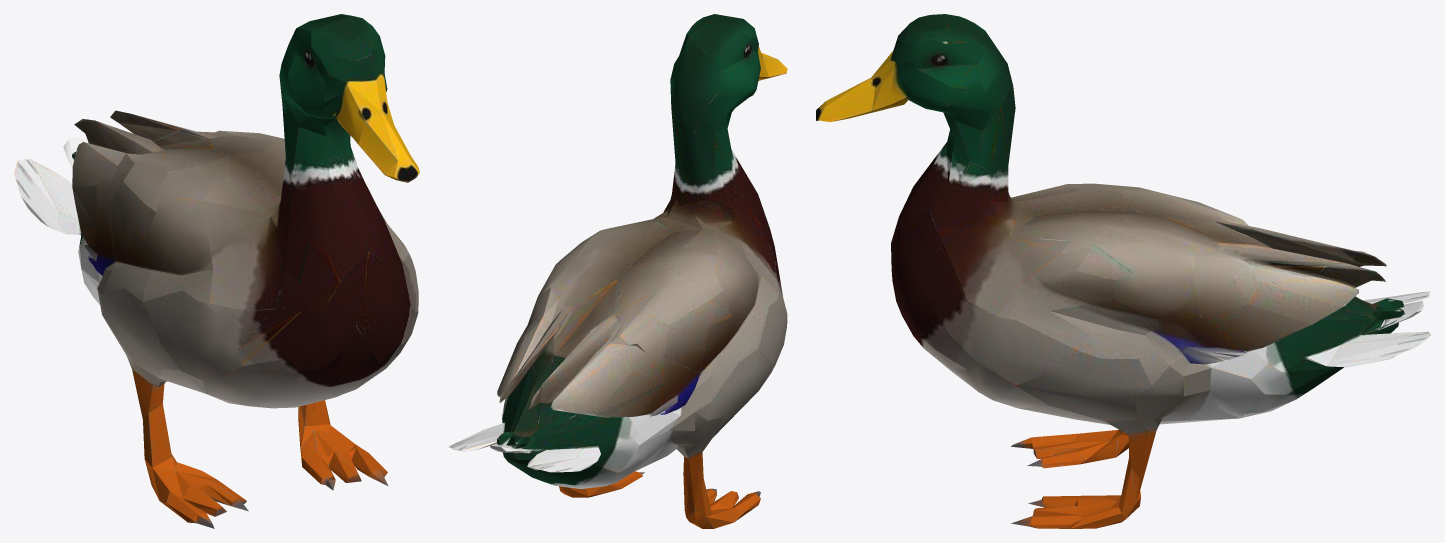
File: world-duck.glb
3 views of the same model, side by side, from view 1: azimuth 30°, elevation 25°; view 2: azimuth 150°, elevation 25°; view 3: azimuth 270°, elevation 25° (orthographic). The views are drawn at different scales.
Bounding box in the file's own units: 0.7928 × 1.58 × 1.89.
1 material, 1 textured.
